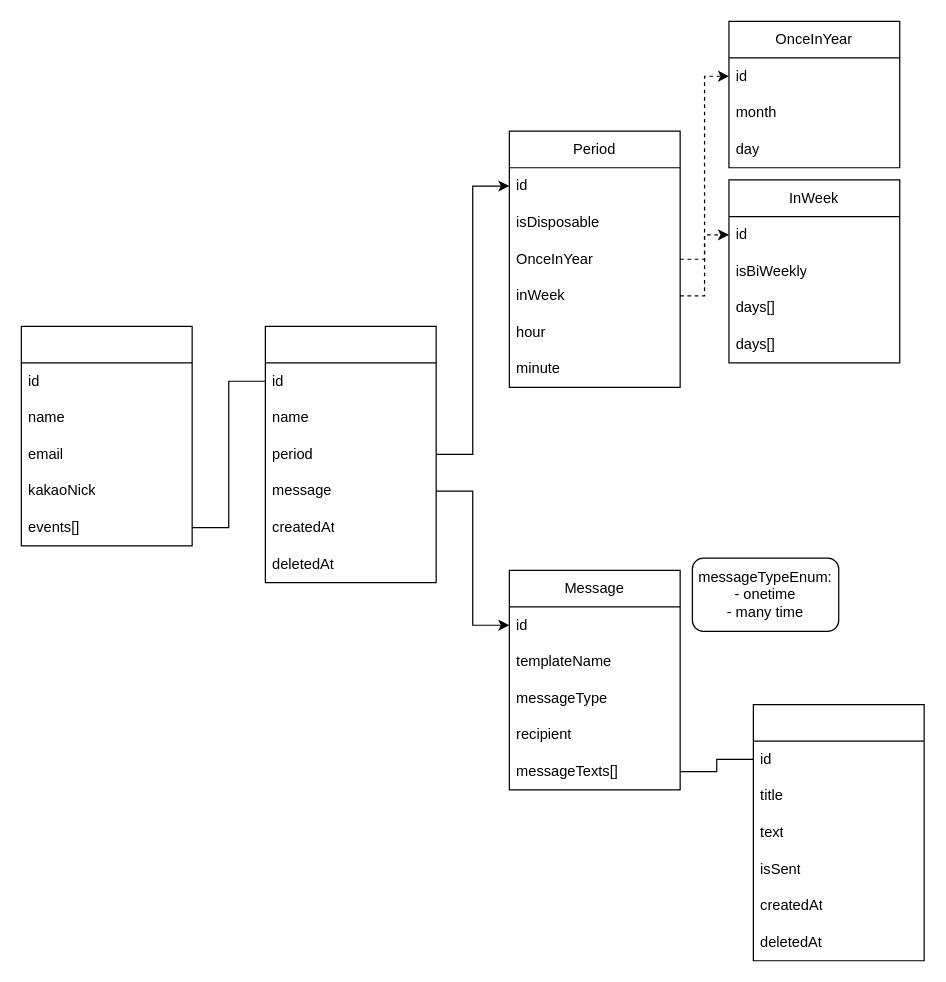
The diagram is 946 pixels wide and 982 high, and some of its shapes have lost their labels. The box of each missing label's shape, as (x1, y1, x2, y2) in pixels:
Event: (264, 325, 436, 583)
MessageText: (752, 703, 924, 961)
User: (20, 325, 192, 546)
